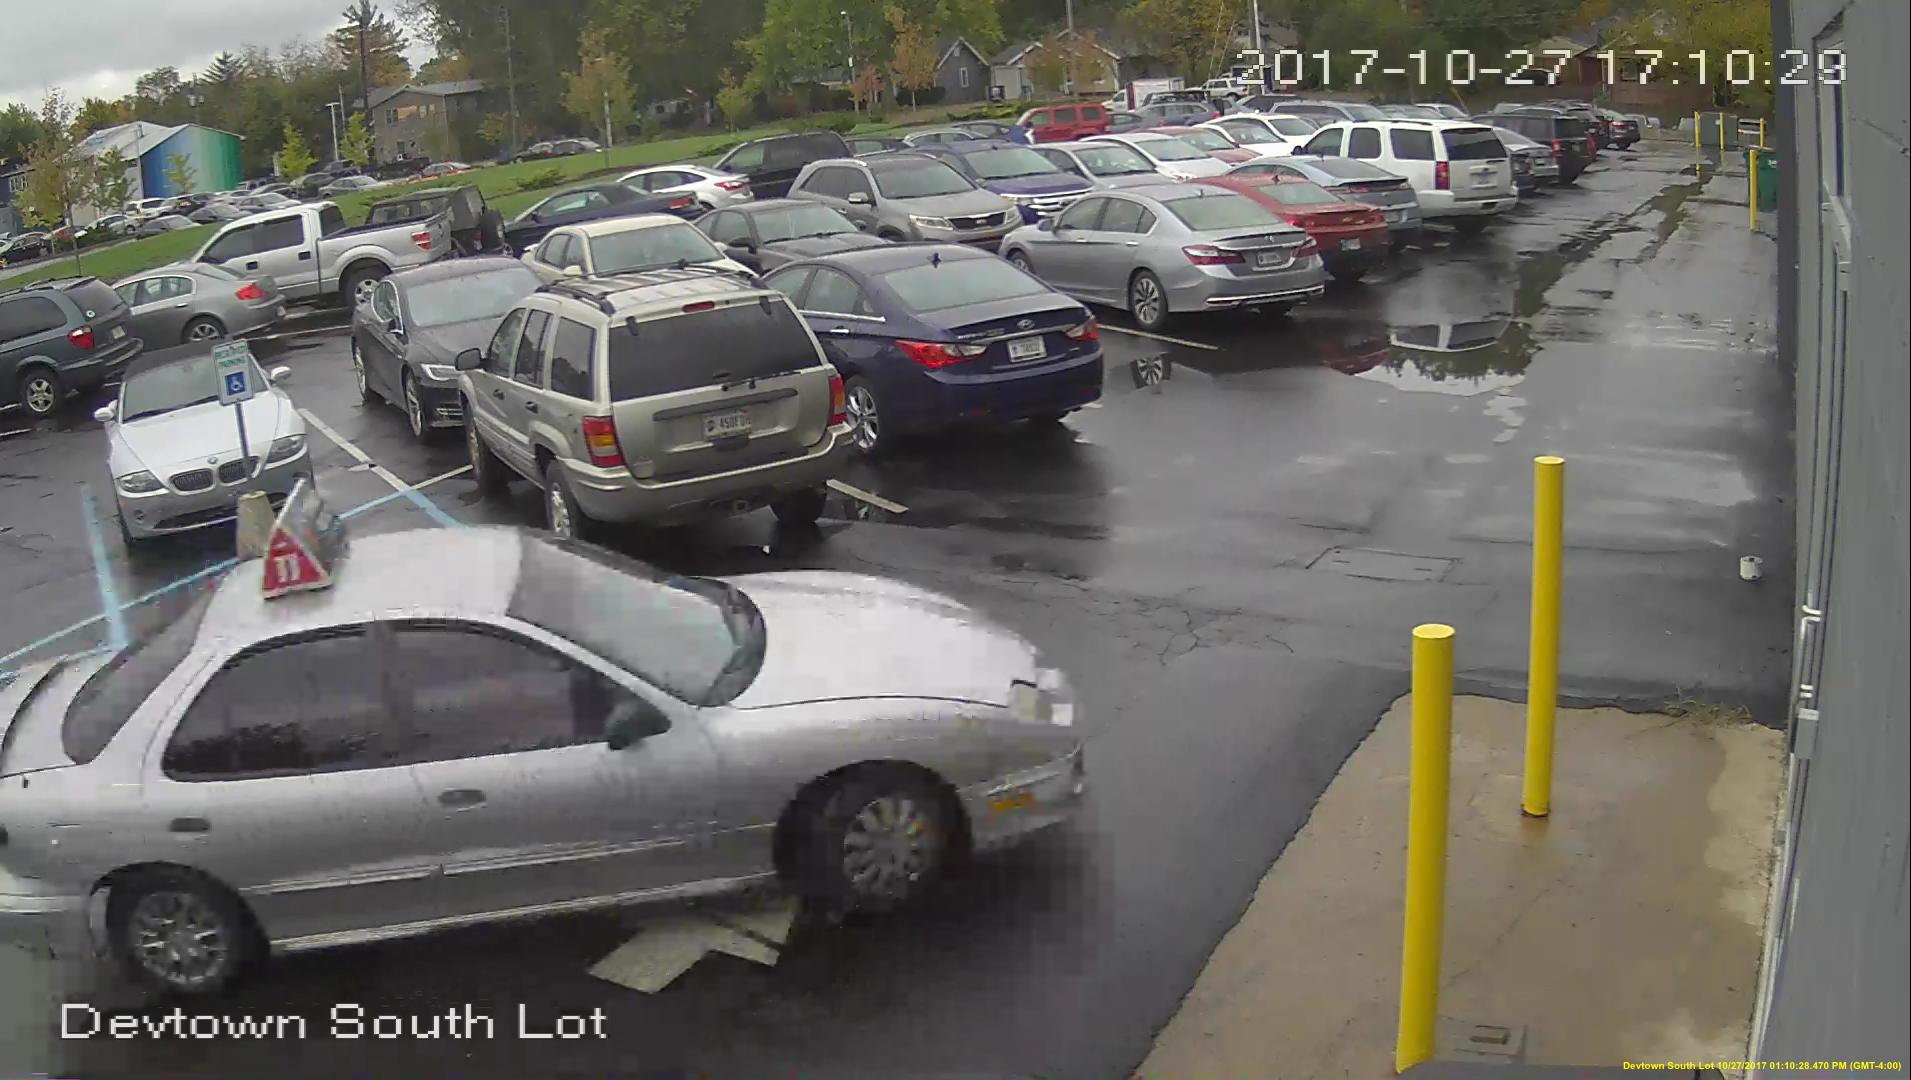jimmy_johns: (262, 480, 350, 601)
